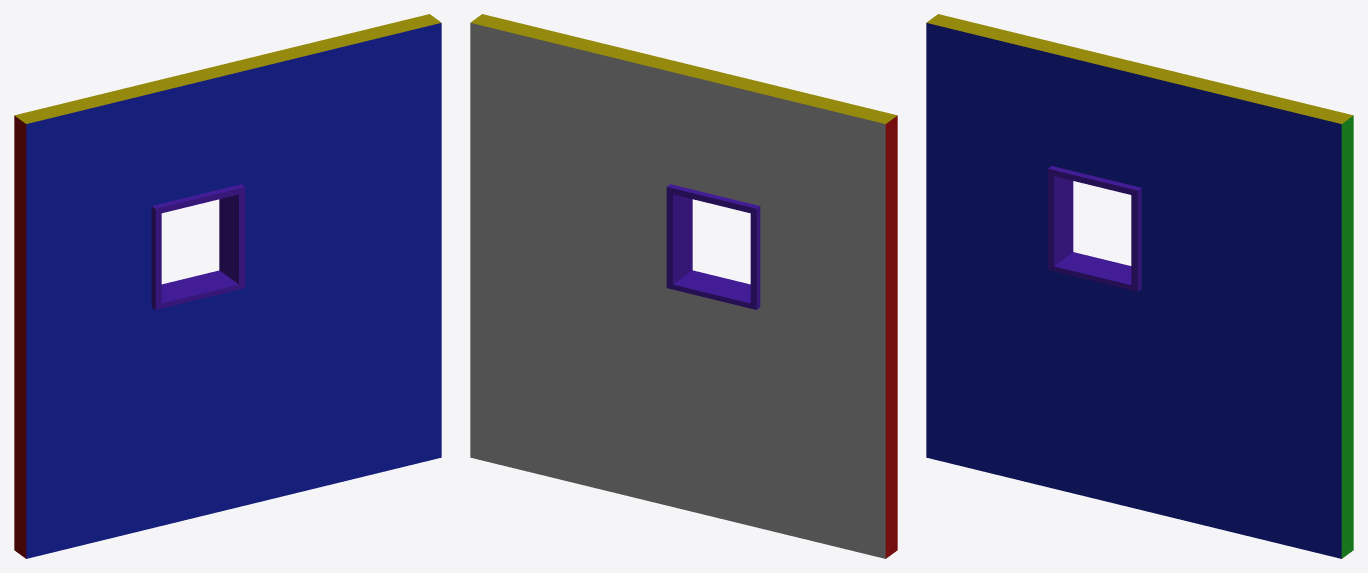
File: Wall_Window_04b.fbx
3 renders of one model, left to right at view 1: azimuth 30°, elevation 25°; view 2: azimuth 150°, elevation 25°; view 3: azimuth 330°, elevation 25°, orthographic.
Visible parts, largest first — view 1: Wall_Window_04b; view 2: Wall_Window_04b; view 3: Wall_Window_04b.
Boxes of the visible parts, x1=… form: Wall_Window_04b: x1=14, y1=14, x2=441, y2=558; Wall_Window_04b: x1=470, y1=14, x2=897, y2=558; Wall_Window_04b: x1=926, y1=14, x2=1353, y2=558.
Size of the model in its own units: 3 by 0.2439 by 3.
